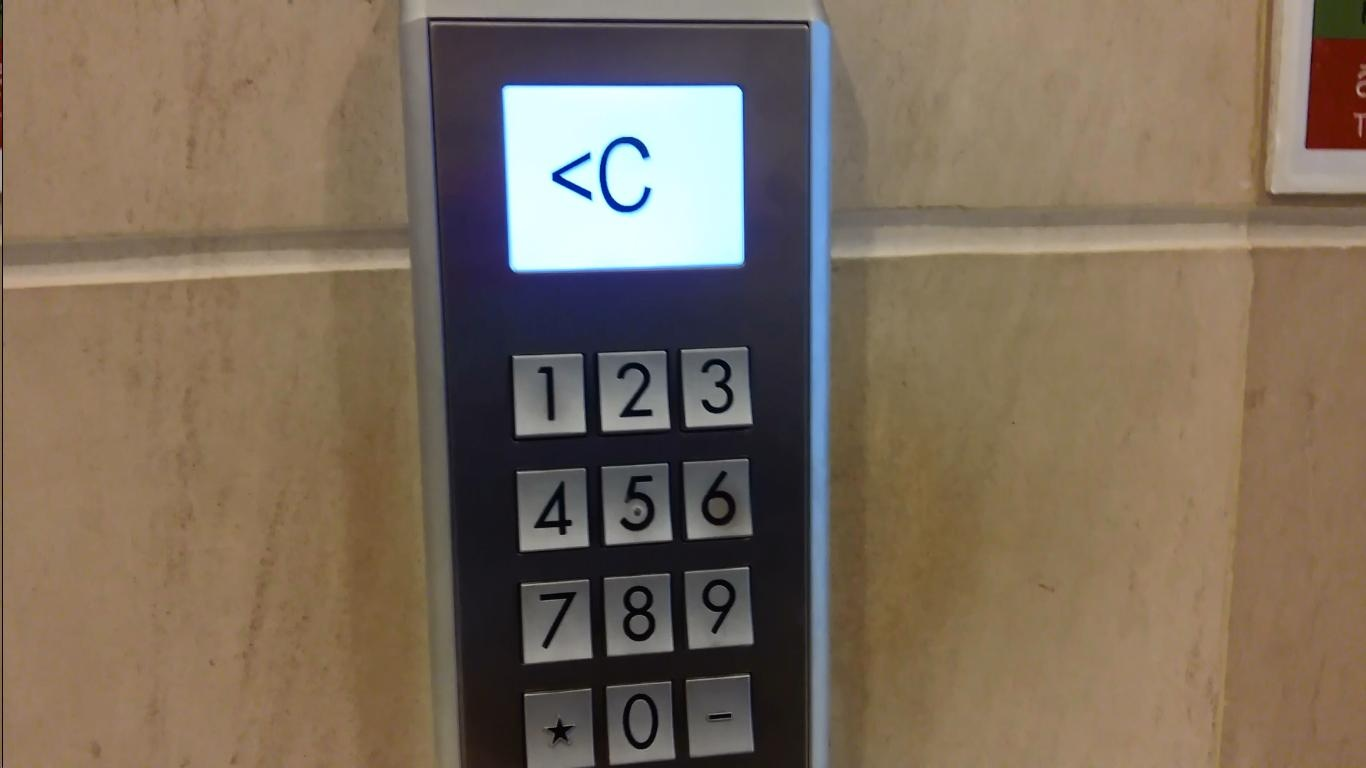-: (683, 674, 763, 760)
0: (601, 682, 681, 768)
1: (511, 352, 591, 438)
2: (594, 348, 674, 434)
3: (678, 346, 758, 432)
4: (514, 467, 594, 553)
5: (598, 462, 678, 548)
6: (678, 456, 758, 542)
7: (517, 580, 597, 666)
8: (598, 573, 678, 659)
9: (679, 566, 759, 652)
led: (495, 77, 751, 276)
s: (520, 682, 600, 768)
